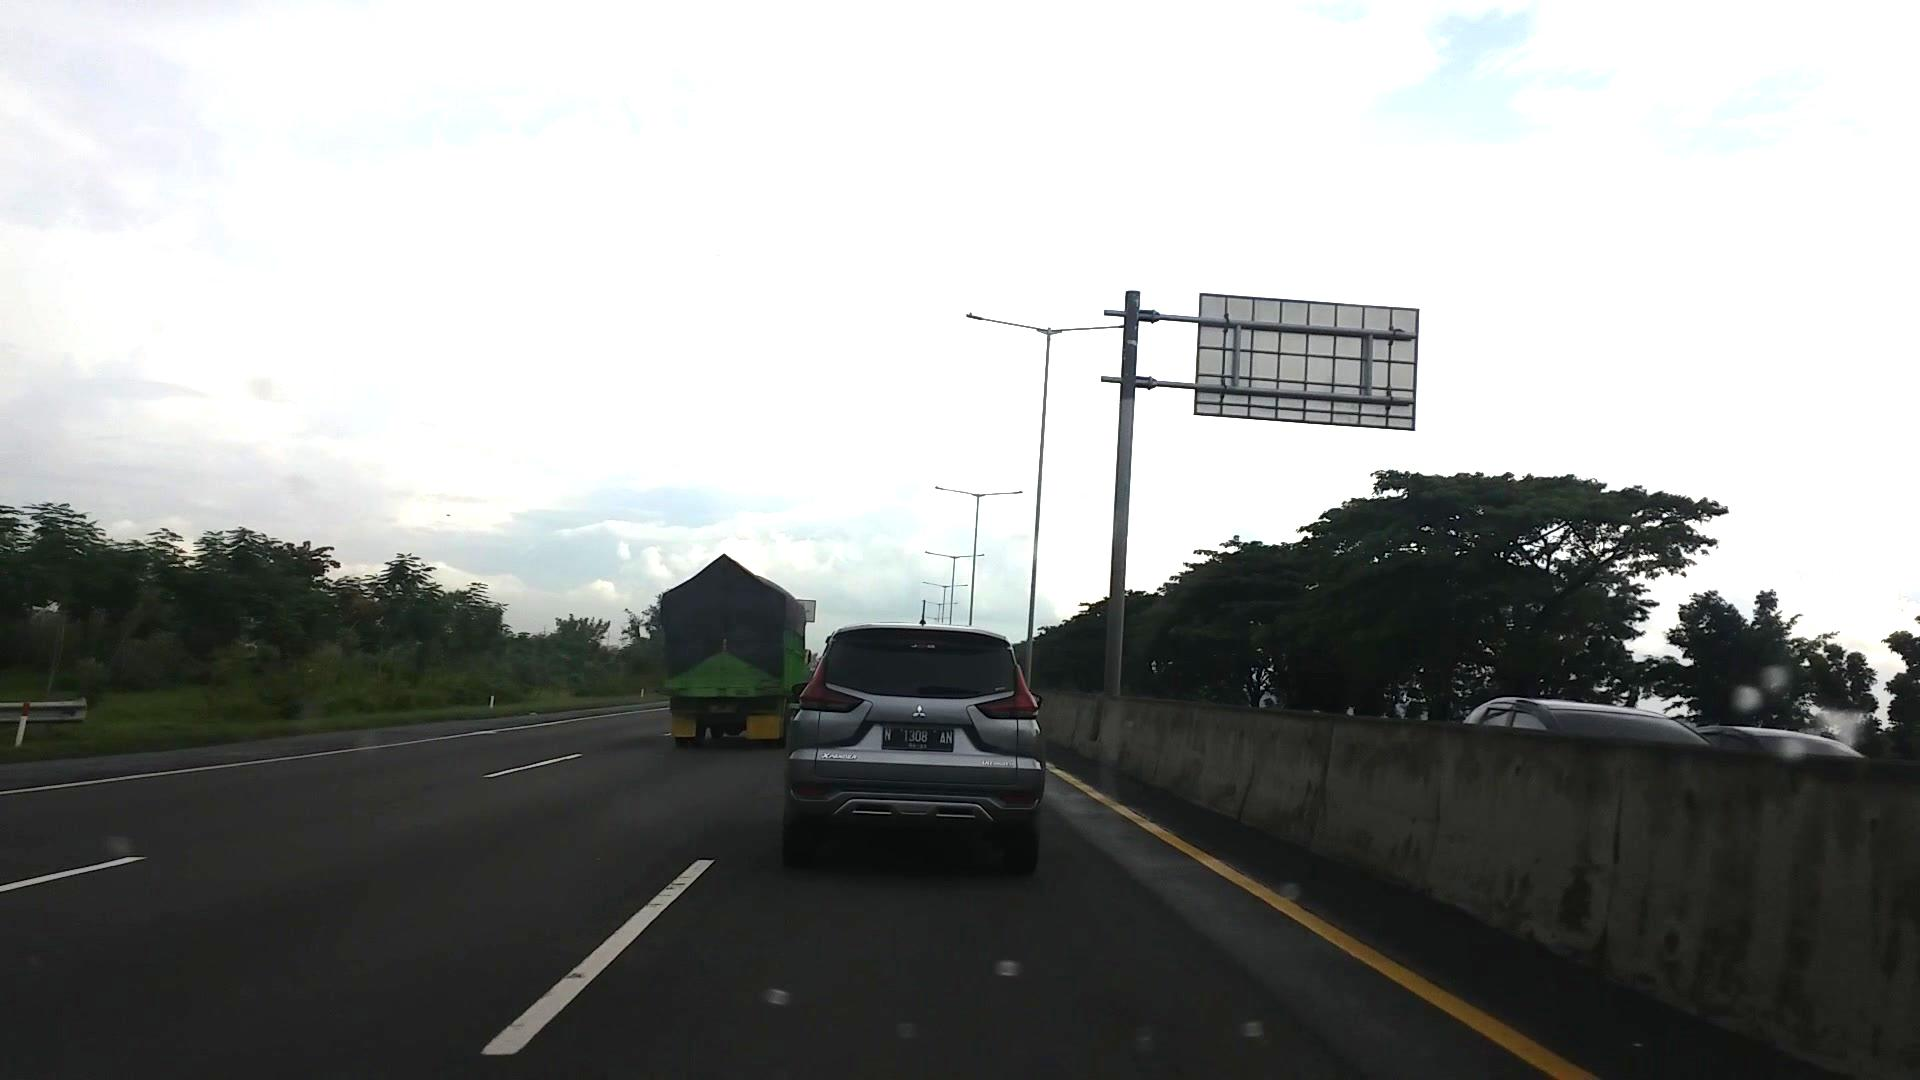plate_positive: (884, 723, 953, 752)
